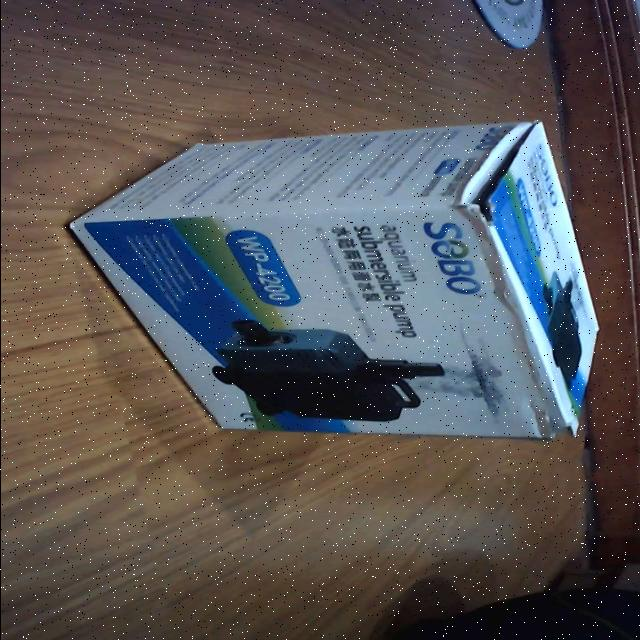SOBO_WP_4200: (60, 120, 600, 443)
